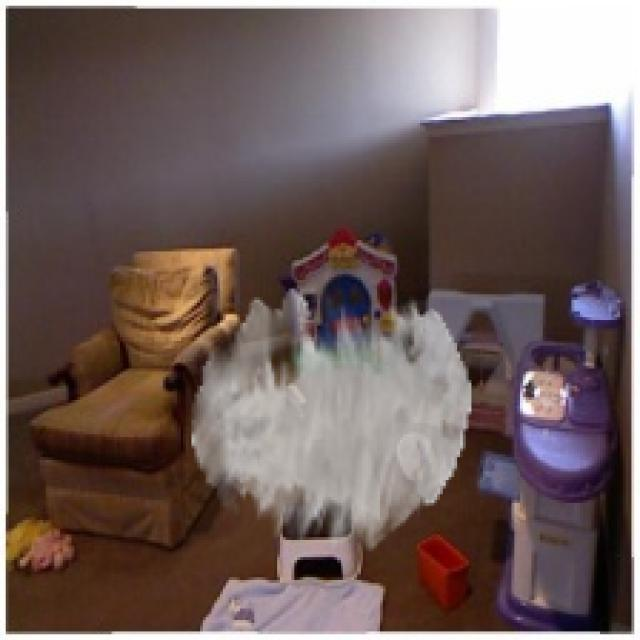Smoke: (192, 288, 472, 554)
